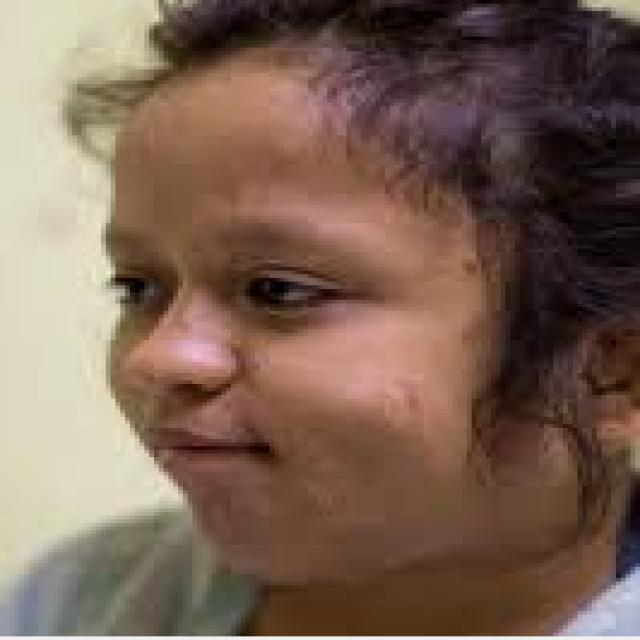stroke_face: (89, 9, 585, 578)
